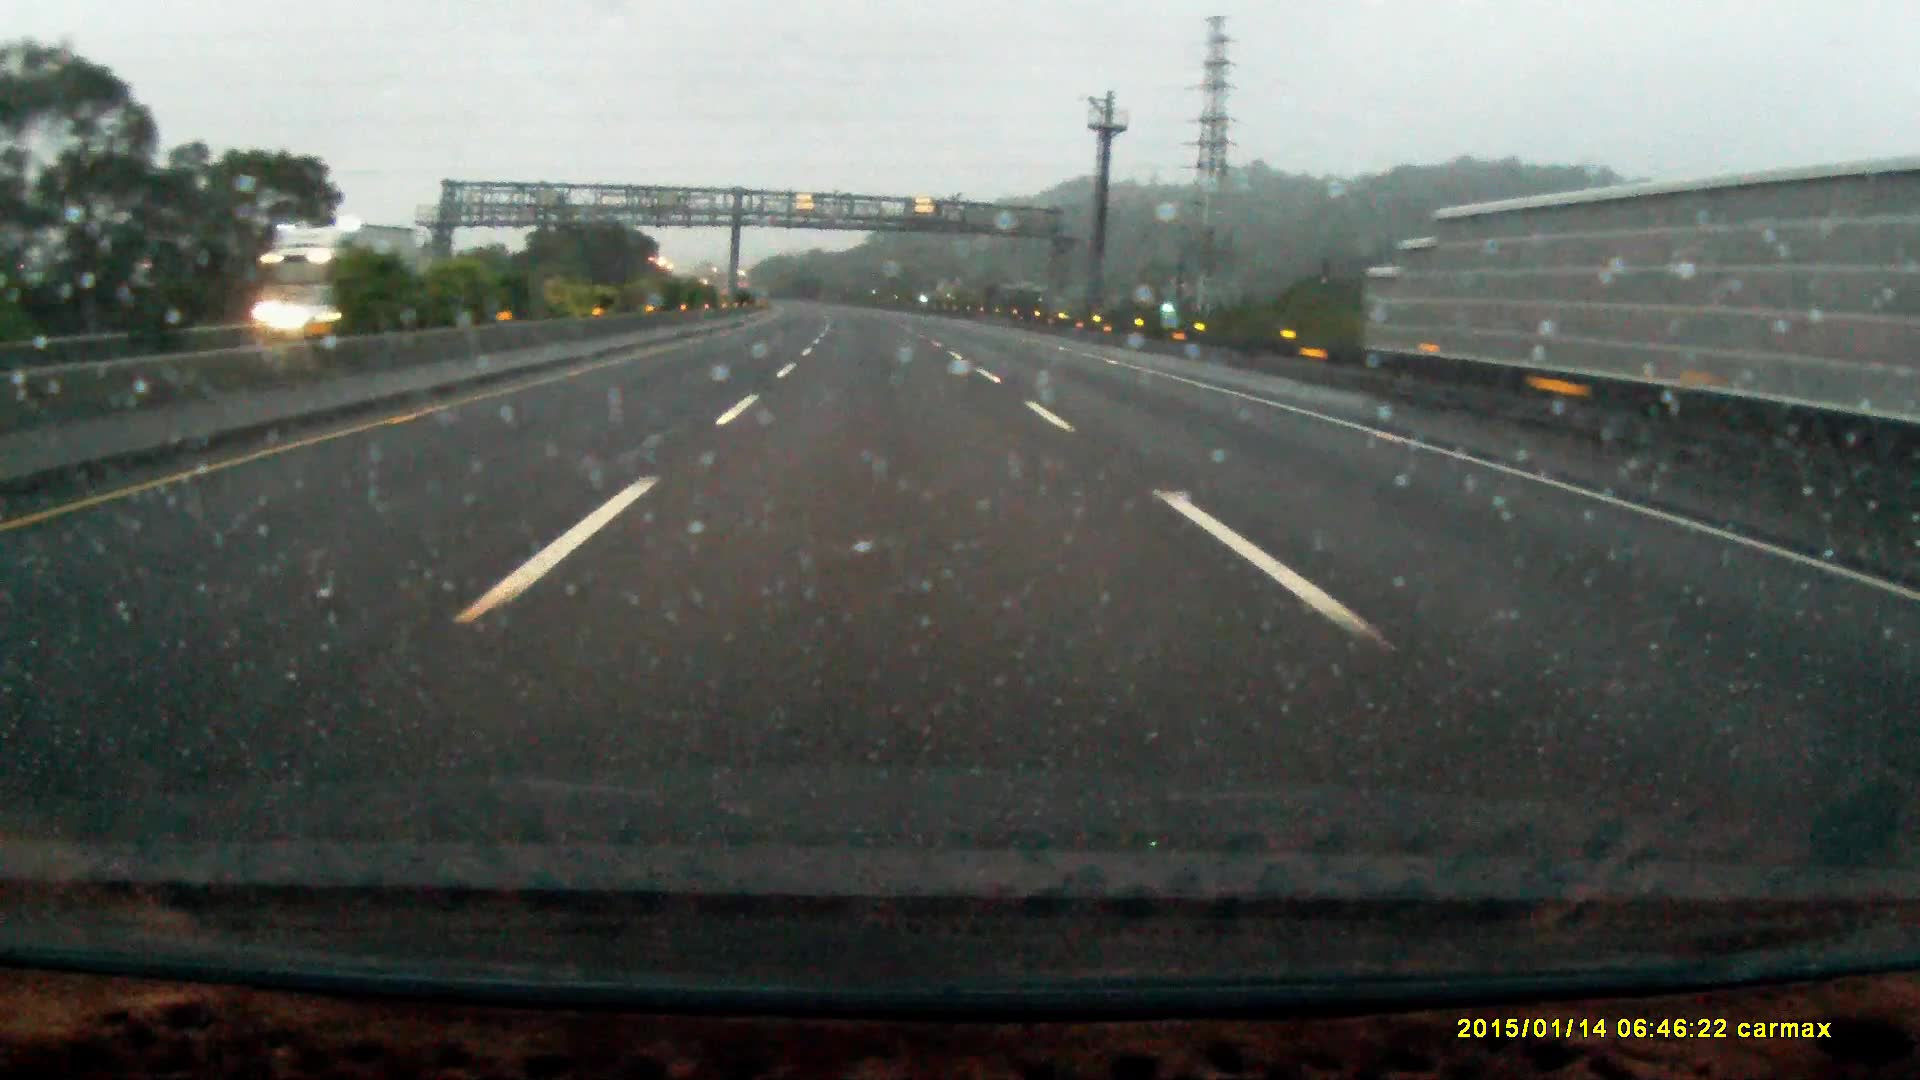vehicle: (252, 227, 415, 328), (284, 287, 367, 340)
